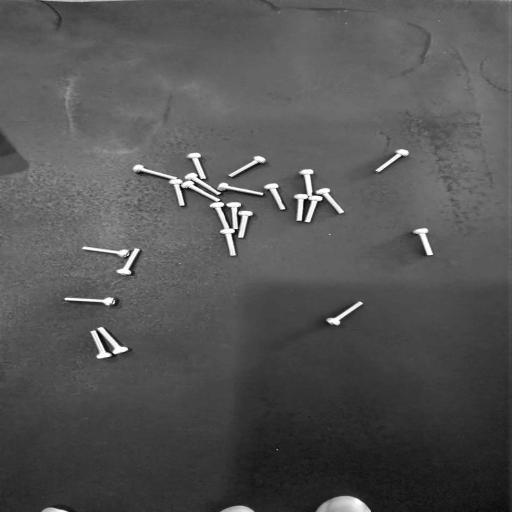Bolt: (326, 301, 363, 326), (97, 328, 129, 354), (229, 156, 266, 177), (185, 173, 220, 195), (182, 181, 220, 201), (376, 150, 409, 172), (316, 188, 344, 213), (116, 249, 140, 275), (133, 165, 176, 179), (91, 330, 112, 358), (218, 183, 264, 195), (264, 184, 285, 210), (413, 229, 433, 255), (210, 202, 230, 228), (187, 153, 206, 179), (82, 247, 130, 257), (304, 196, 322, 222), (220, 229, 236, 256), (169, 179, 185, 206), (238, 211, 253, 238), (226, 202, 241, 229), (294, 194, 308, 221), (64, 298, 117, 305), (299, 170, 313, 196)
